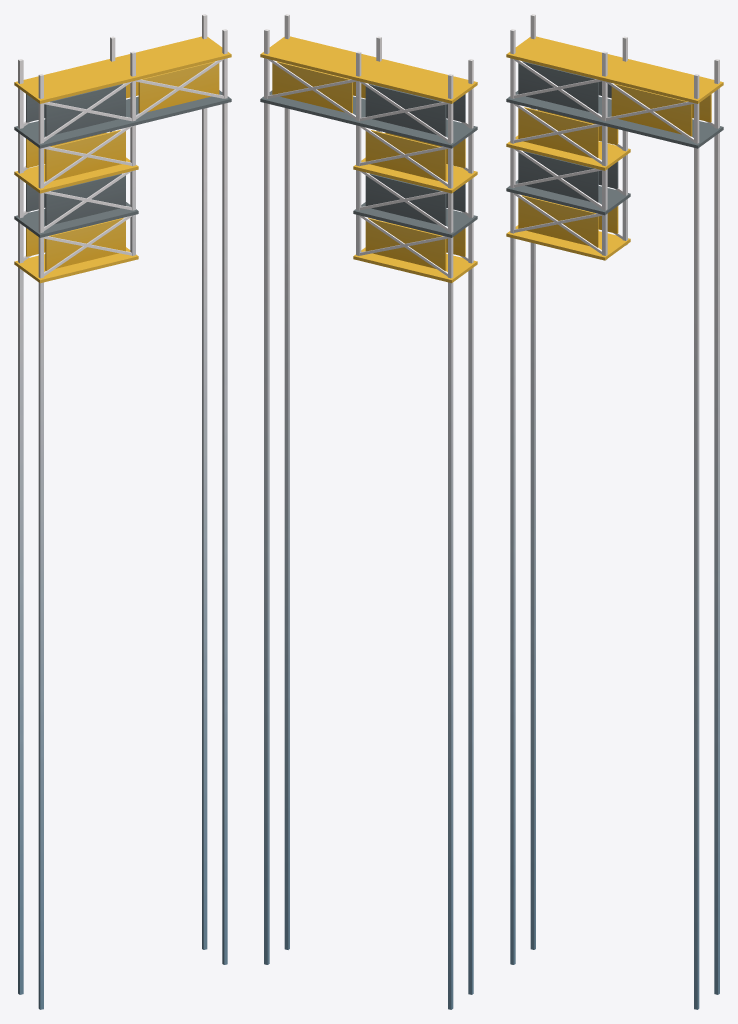
File: Scaffold_2.fbx
The picture shows the model from 3 angles, left to right: view 1: azimuth 30°, elevation 25°; view 2: azimuth 150°, elevation 25°; view 3: azimuth 330°, elevation 25°; orthographic projection.
Visible parts, largest first — view 1: Scaffold_2, Scaffold_Size2Part_2, TopPart_2, Scaffold_Size1Part_2, Scaffold_Size1Part_4, Scaffold_Size1Part_3; view 2: Scaffold_2, Scaffold_Size2Part_2, TopPart_2, Scaffold_Size1Part_2, Scaffold_Size1Part_4, Scaffold_Size1Part_3; view 3: Scaffold_2, Scaffold_Size2Part_2, TopPart_2, Scaffold_Size1Part_2, Scaffold_Size1Part_3, Scaffold_Size1Part_4.
Boxes of the visible parts, x1,y1,x2,y2 form: Scaffold_2: (18,14,227,1009); Scaffold_Size2Part_2: (14,59,231,148); TopPart_2: (14,36,231,103); Scaffold_Size1Part_2: (14,215,138,283); Scaffold_Size1Part_4: (14,126,138,193); Scaffold_Size1Part_3: (14,171,138,237); Scaffold_2: (264,14,473,1009); Scaffold_Size2Part_2: (260,59,477,148); TopPart_2: (260,36,477,103); Scaffold_Size1Part_2: (353,215,477,283); Scaffold_Size1Part_4: (353,126,477,193); Scaffold_Size1Part_3: (353,171,477,237); Scaffold_2: (510,14,719,1009); Scaffold_Size2Part_2: (506,59,723,148); TopPart_2: (506,36,723,103); Scaffold_Size1Part_2: (506,193,630,260); Scaffold_Size1Part_3: (506,149,630,215); Scaffold_Size1Part_4: (506,104,630,170).
Size of the model in its own units: 863 by 4025 by 200.
